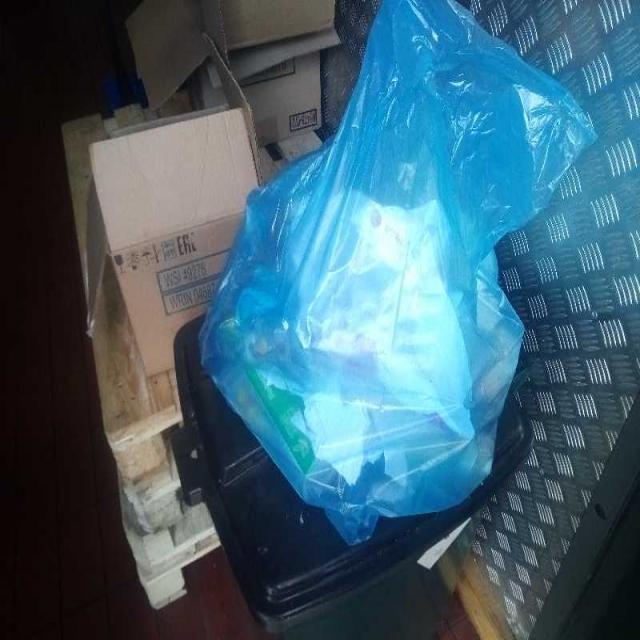Dumpster: (167, 0, 599, 639)
